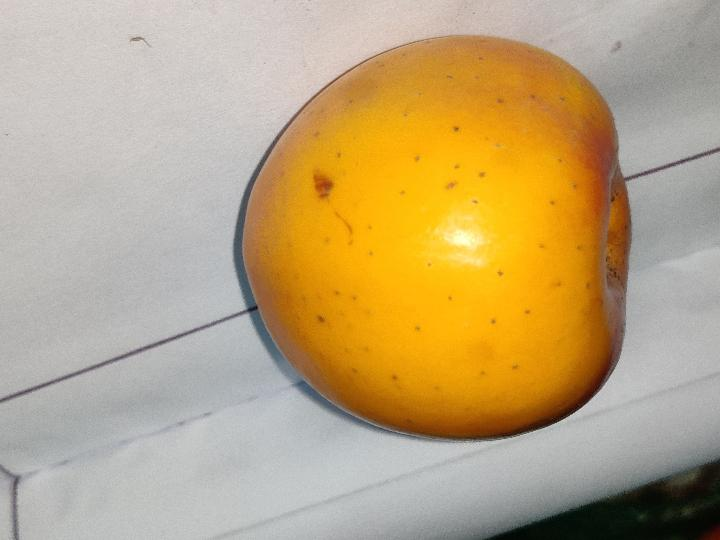apple: (242, 37, 631, 439)
surface_damage: (314, 173, 334, 199)
